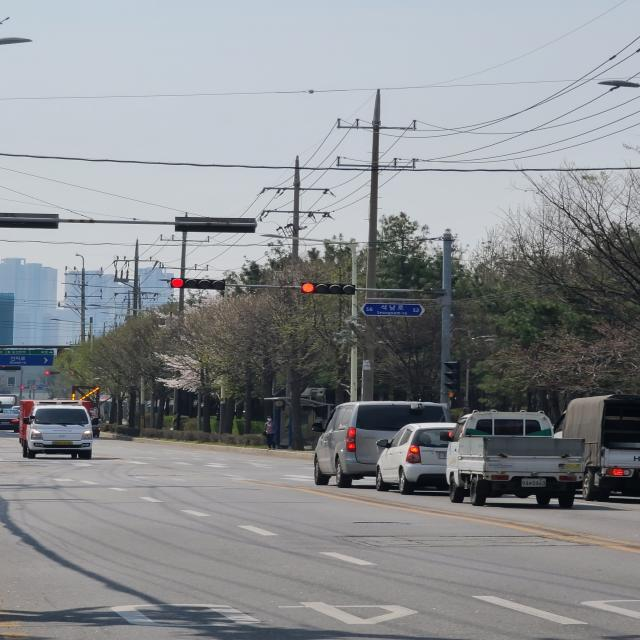Red Light: (168, 276, 184, 288), (299, 282, 315, 294)
